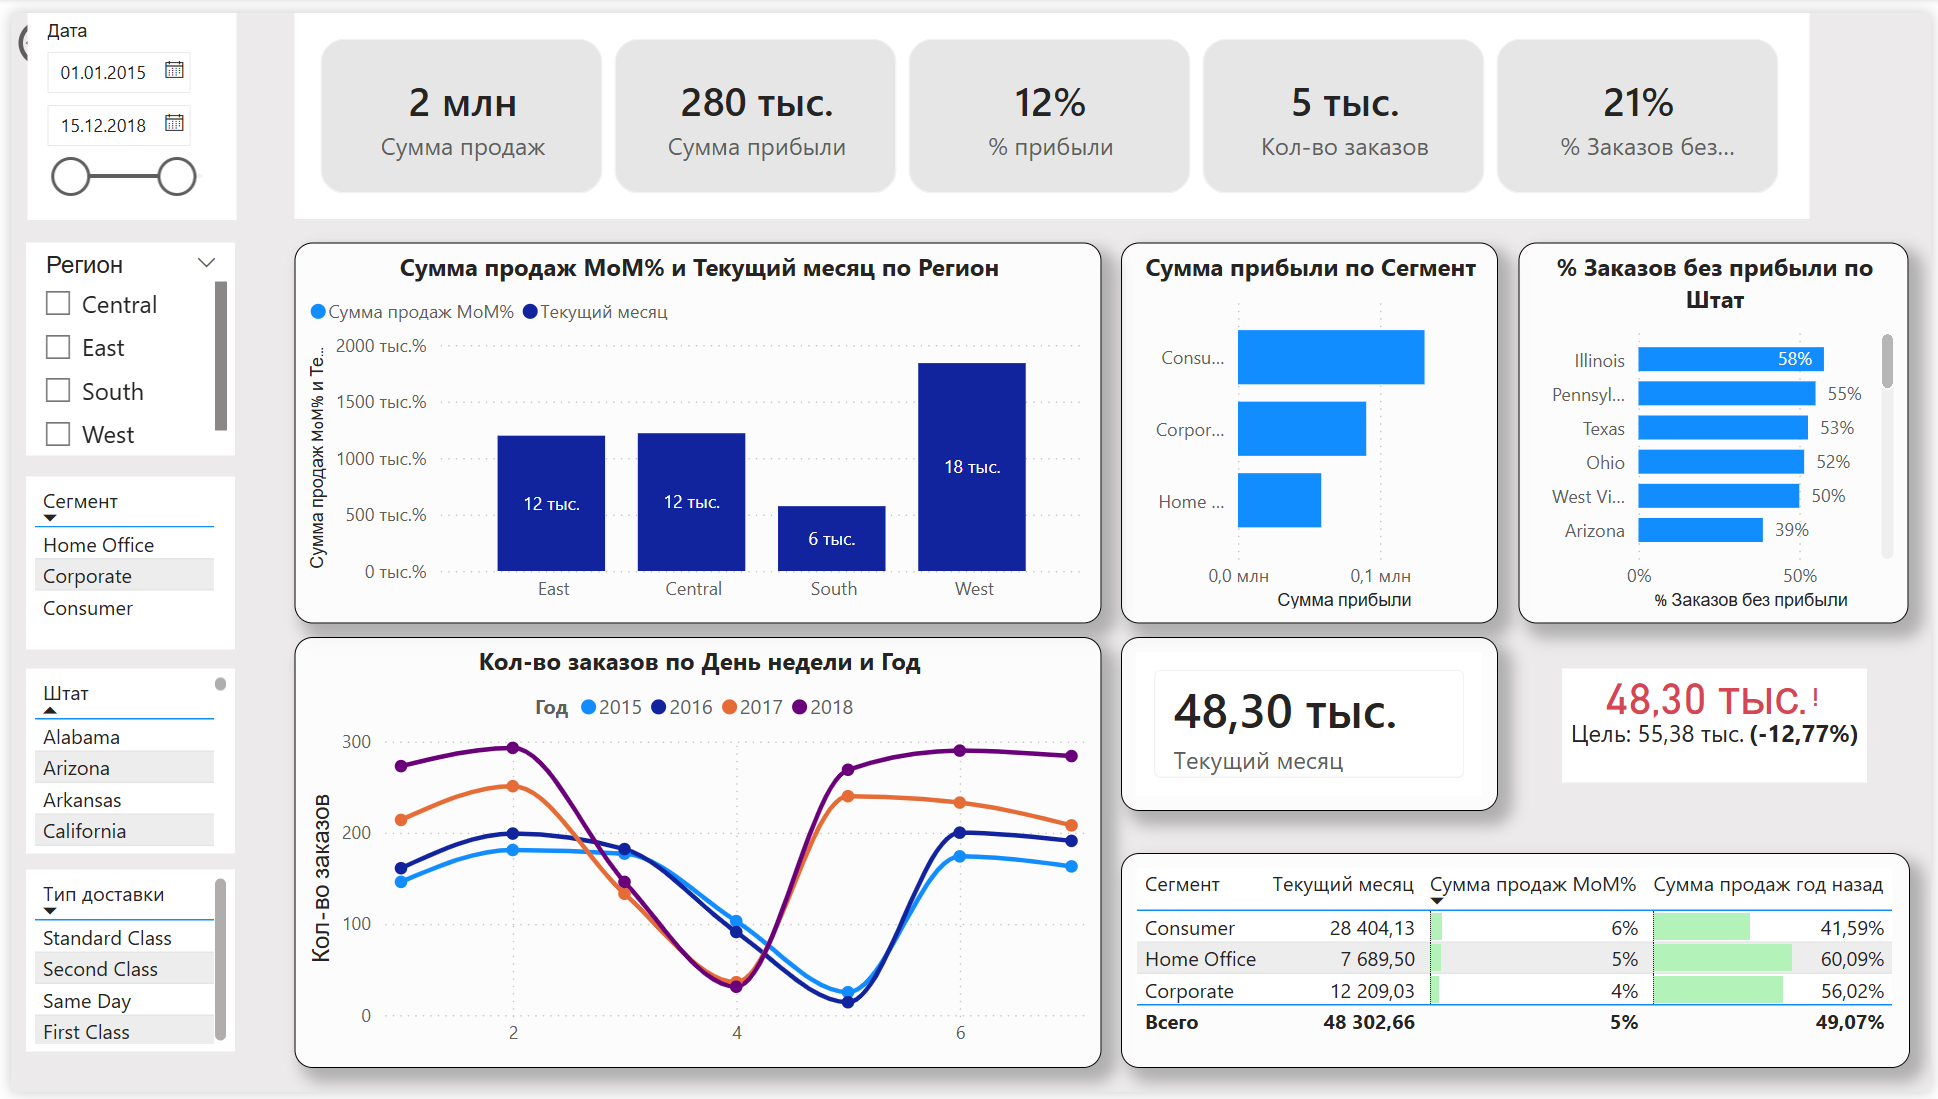

The page's visual inventory and layout, read from the dashboard file:
{"tool":"powerbi","page":{"name":"аналитика сезонности","canvas":[1280,719],"ordinal":1},"visuals":[{"type":"cardVisual","fields":{"Data":["dox.Сумма продаж","dox.Сумма прибыли","dox.% прибыли","dox.Кол-во заказов","dox.% без прибыли"]},"box":[188.9,0,1010.4,136.7],"z":0},{"type":"clusteredBarChart","fields":{"Category":["Продажи.Сегмент"],"Y":["dox.Сумма прибыли"]},"box":[740.4,153,250.3,253.8],"z":1000},{"type":"columnChart","fields":{"Y":["DAX.Сумма продаж MoM%","DAX.Текущий месяц"],"Category":["Продажи.Регион"]},"box":[188.9,153,537.7,253.8],"z":2000},{"type":"lineChart","fields":{"Series":["яКалендарь.Год"],"Category":["яКалендарь.День недели"],"Y":["dox.Кол-во заказов"]},"box":[188.9,416,537.7,287.4],"z":3000},{"type":"slicer","fields":{"Values":["Продажи.Регион"]},"box":[10.4,153,139,142.5],"z":4000},{"type":"tableEx","fields":{"Values":["Продажи.Сегмент"]},"box":[10.4,309.4,139,114.7],"z":5000},{"type":"tableEx","fields":{"Values":["Продажи.Тип доставки"]},"box":[10.4,571.3,139,120.5],"z":6000},{"type":"tableEx","fields":{"Values":["Продажи.Штат"]},"box":[10.4,436.8,139,122.8],"z":7000},{"type":"clusteredBarChart","fields":{"Y":["dox.% без прибыли"],"Category":["Продажи.Штат"]},"box":[1004.6,153,260.7,253.8],"z":8000},{"type":"actionButton","box":[0,0,100,40],"z":9000},{"type":"slicer","fields":{"Values":["яКалендарь.Дата"]},"box":[10.8,0,138.8,137.6],"z":10000},{"type":"cardVisual","fields":{"Data":["DAX.Текущий месяц"]},"box":[740.5,416.3,250,116],"z":11000},{"type":"tableEx","fields":{"Values":["Продажи.Сегмент","DAX.Текущий месяц","DAX.Сумма продаж MoM%","DAX.Сумма продаж год назад"]},"box":[740.5,559.9,525.2,143.6],"z":12000},{"type":"kpi","fields":{"Indicator":["DAX.Текущий месяц"],"Goal":["DAX.Пред. Месяц на тот же день"],"TrendLine":["яКалендарь.Начало месяца"]},"box":[1033.6,436.6,203.4,76.6],"z":13000}]}

Visuals, with their boxes on the page's 1280x719 design canvas (x1, y1, x2, y2). These are canvas units, not pixel positions in the 1938x1099 screenshot, which may show the page scaled, cropped or inside an application window:
cardVisual - dox.Сумма продаж x dox.Сумма прибыли: 189, 0, 1199, 137
clusteredBarChart - Продажи.Сегмент x dox.Сумма прибыли: 740, 153, 991, 407
columnChart - DAX.Сумма продаж MoM% x DAX.Текущий месяц: 189, 153, 727, 407
lineChart - яКалендарь.Год x яКалендарь.День недели: 189, 416, 727, 703
slicer - Продажи.Регион: 10, 153, 149, 296
tableEx - Продажи.Сегмент: 10, 309, 149, 424
tableEx - Продажи.Тип доставки: 10, 571, 149, 692
tableEx - Продажи.Штат: 10, 437, 149, 560
clusteredBarChart - dox.% без прибыли x Продажи.Штат: 1005, 153, 1265, 407
actionButton: 0, 0, 100, 40
slicer - яКалендарь.Дата: 11, 0, 150, 138
cardVisual - DAX.Текущий месяц: 740, 416, 990, 532
tableEx - Продажи.Сегмент x DAX.Текущий месяц: 740, 560, 1266, 704
kpi - DAX.Текущий месяц x DAX.Пред. Месяц на тот же день: 1034, 437, 1237, 513
